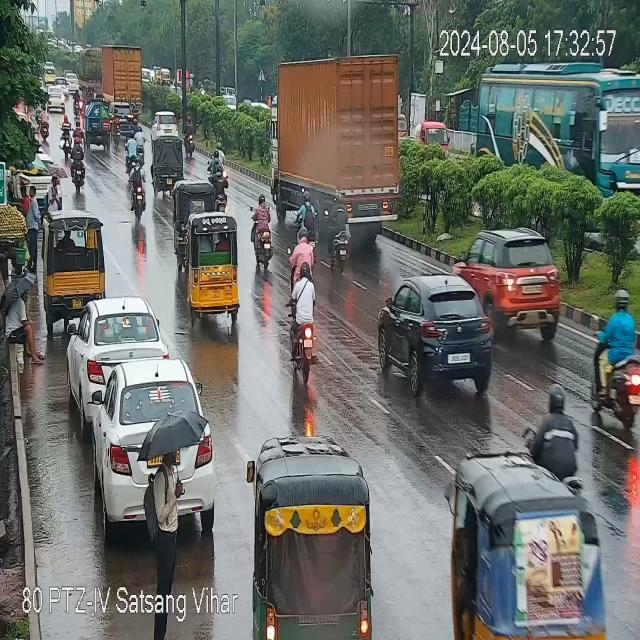2-wheelers: (590, 292, 640, 428), (292, 259, 316, 378), (544, 378, 570, 475), (251, 194, 279, 272), (329, 193, 351, 275), (206, 145, 234, 198), (65, 141, 94, 192), (124, 128, 148, 176), (129, 161, 147, 222), (293, 230, 313, 280), (301, 188, 316, 244), (182, 112, 196, 160), (60, 115, 70, 162), (74, 119, 85, 145), (112, 109, 119, 146), (72, 90, 80, 120)
auto: (443, 448, 604, 640), (244, 424, 374, 640), (179, 214, 244, 325), (42, 209, 110, 306), (168, 178, 212, 261), (150, 133, 183, 193)
bus: (471, 57, 640, 198)
car: (85, 363, 223, 545), (376, 275, 494, 389), (456, 230, 558, 334), (68, 298, 164, 400), (150, 109, 178, 135)
pedestrian: (147, 456, 187, 586), (0, 272, 49, 371), (26, 186, 38, 268), (22, 179, 28, 213)
truck: (260, 48, 406, 255), (100, 42, 144, 110)
